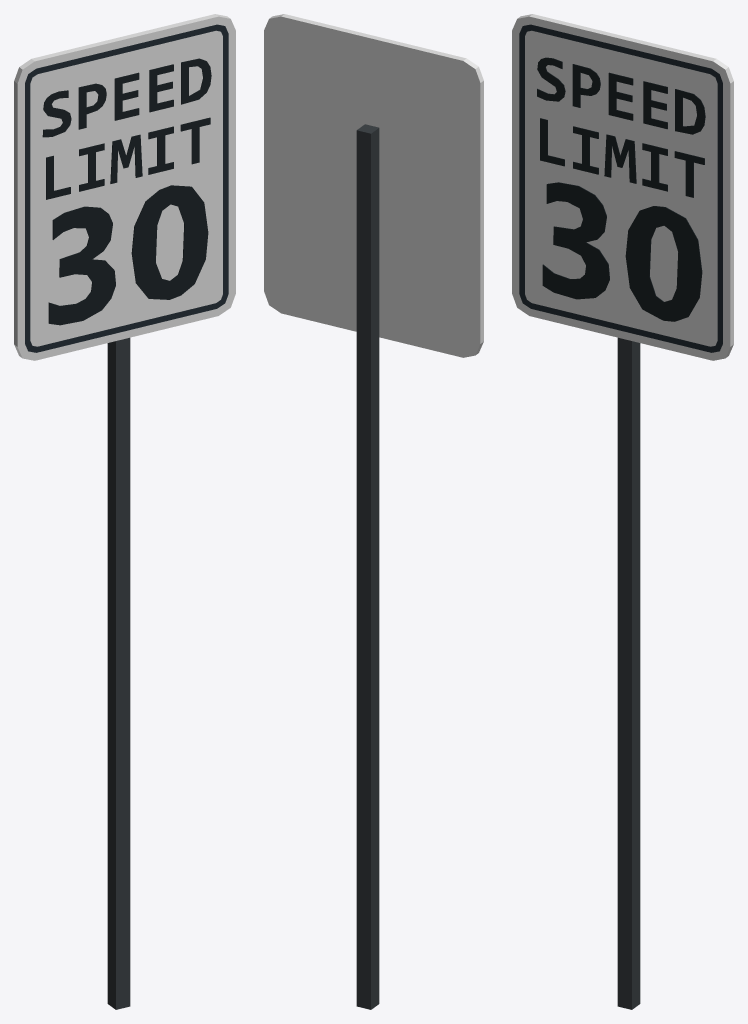
Rendered from SM_FloorProps_RoadSign_04.fbx.
3 renders of one model, left to right at view 1: azimuth 30°, elevation 25°; view 2: azimuth 150°, elevation 25°; view 3: azimuth 330°, elevation 25°, orthographic.
Parts seen in each view (by area): view 1: SM_FloorProps_RoadSign_04; view 2: SM_FloorProps_RoadSign_04; view 3: SM_FloorProps_RoadSign_04.
Boxes of the visible parts, <box> form: SM_FloorProps_RoadSign_04: <box>14,14,235,1009</box>; SM_FloorProps_RoadSign_04: <box>264,14,483,1009</box>; SM_FloorProps_RoadSign_04: <box>512,14,733,1009</box>.
Bounding box in the file's own units: 0.6461 × 2.75 × 0.0634.
